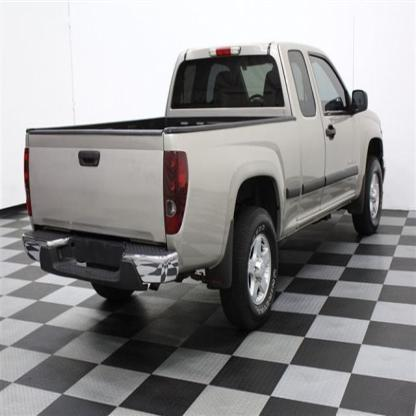car: (21, 41, 389, 332)
